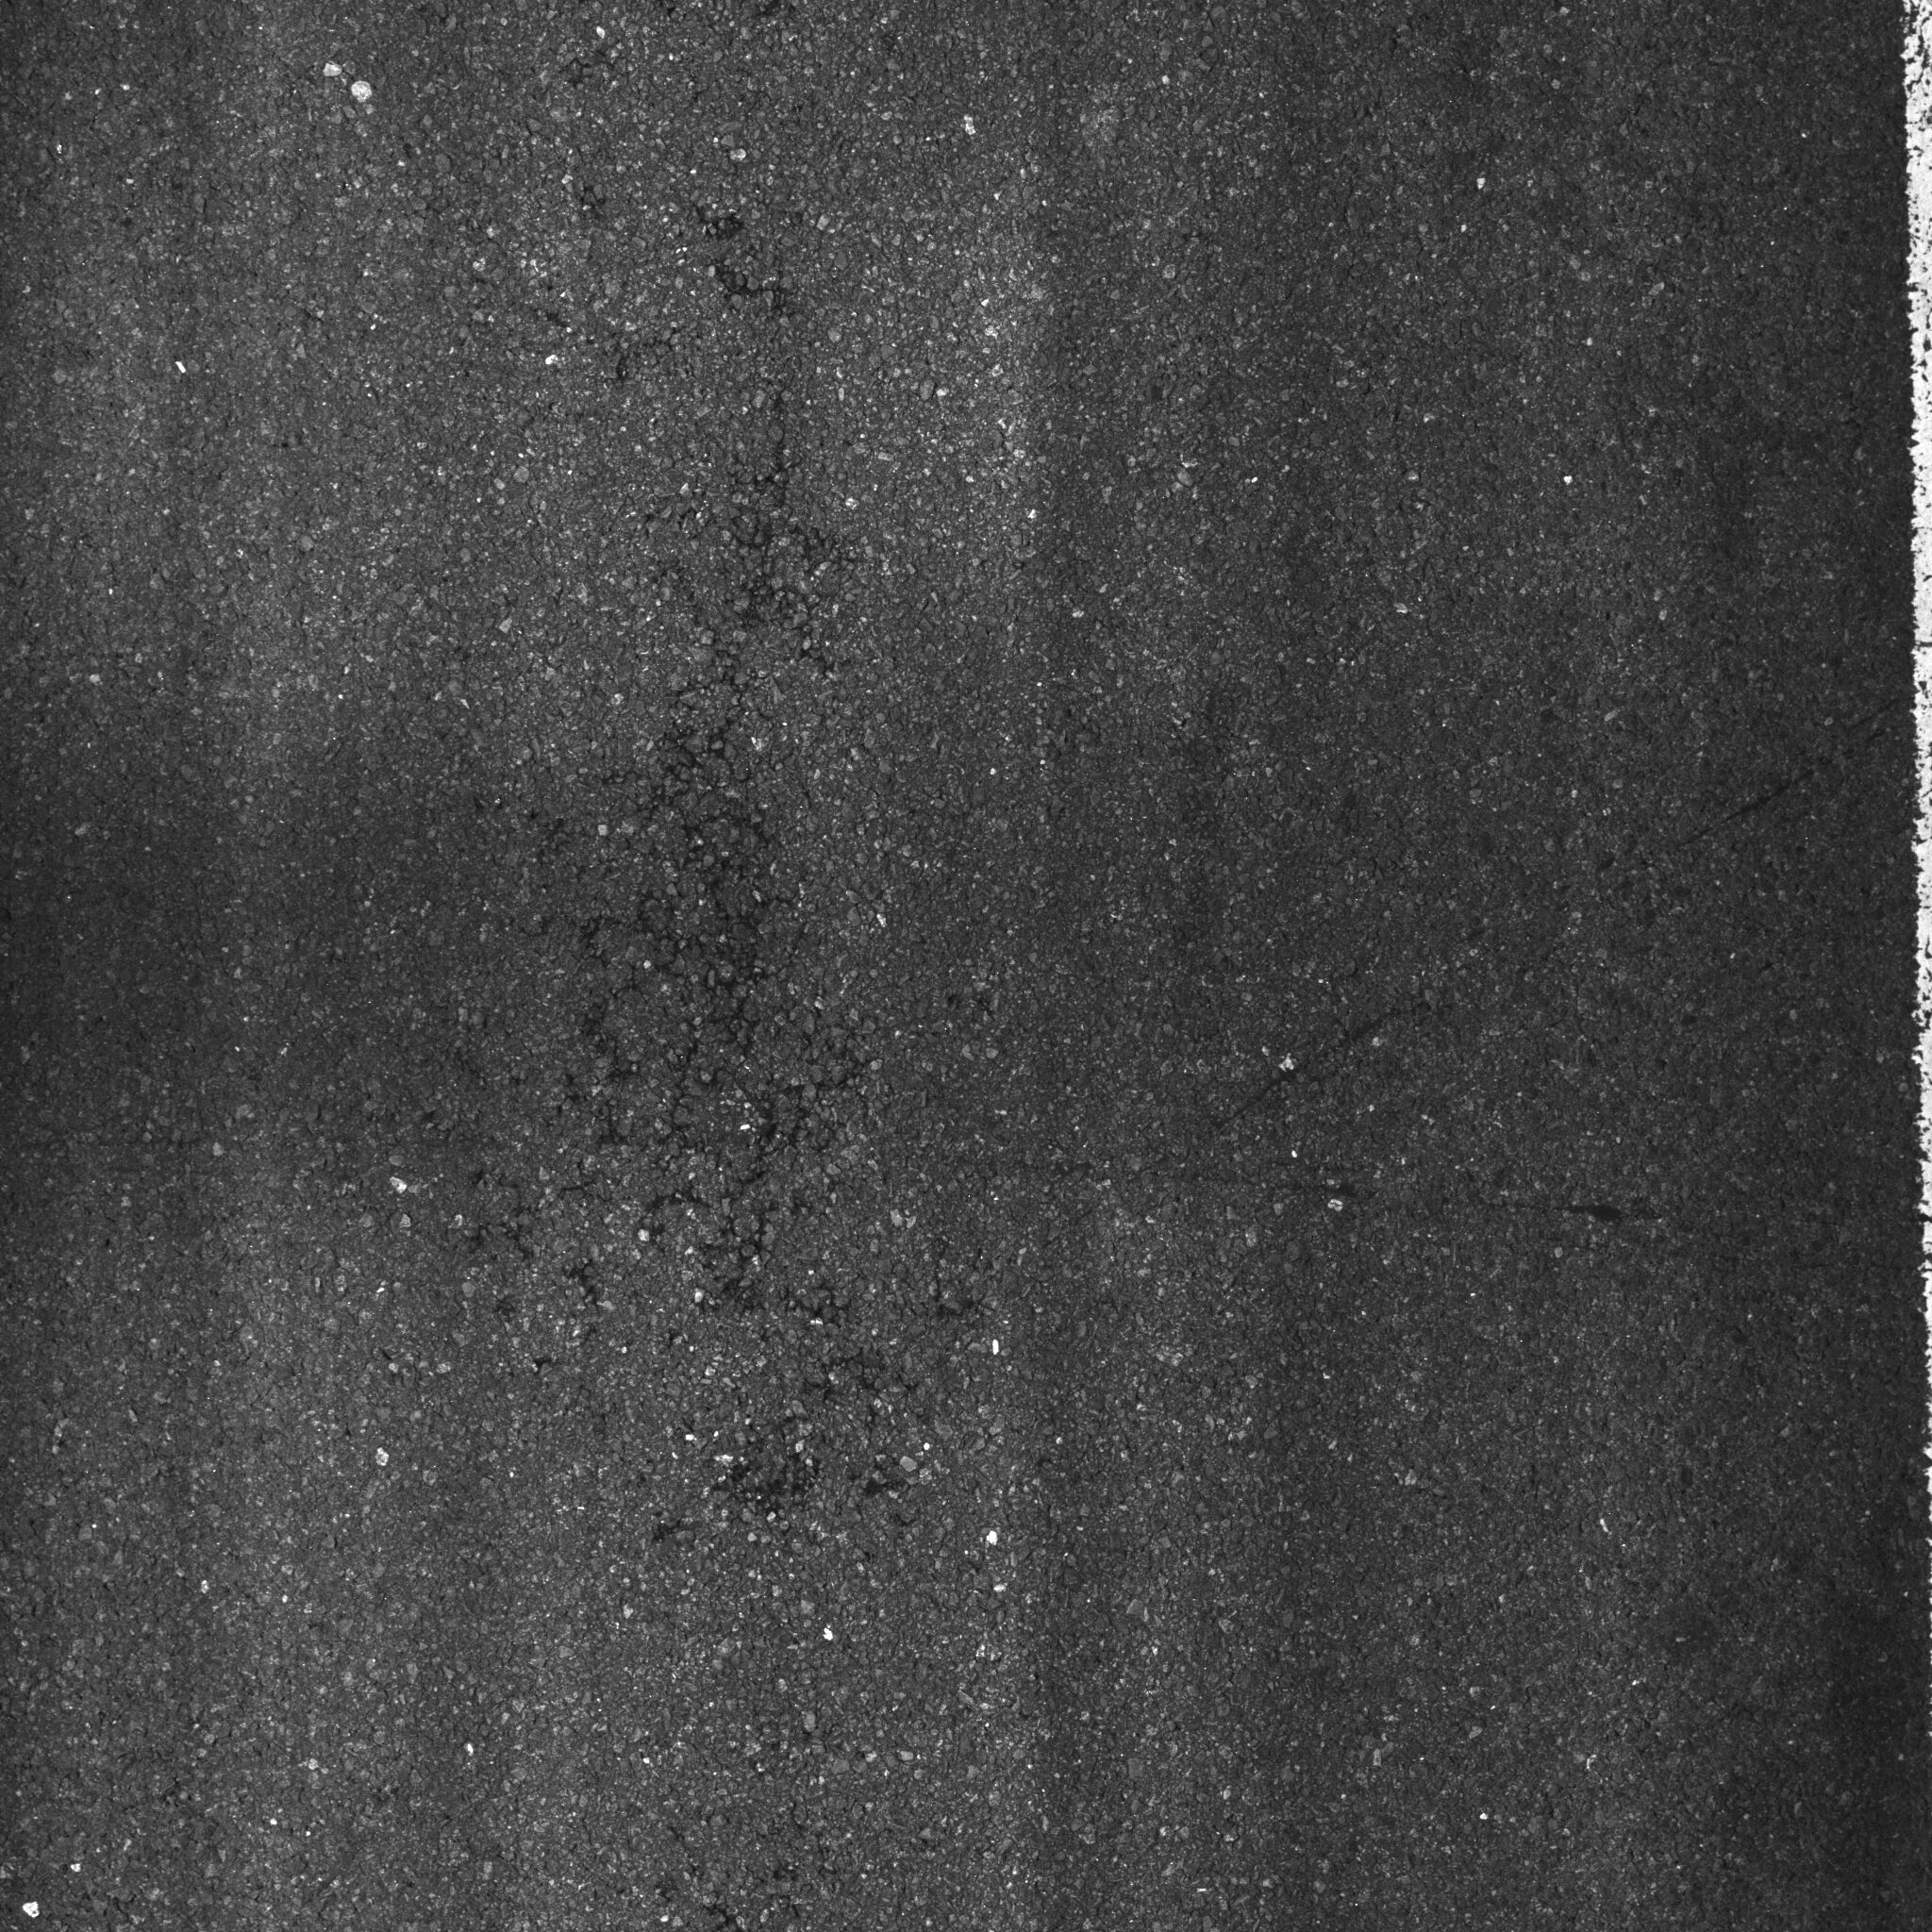alligator: (425, 350, 1053, 1555)
